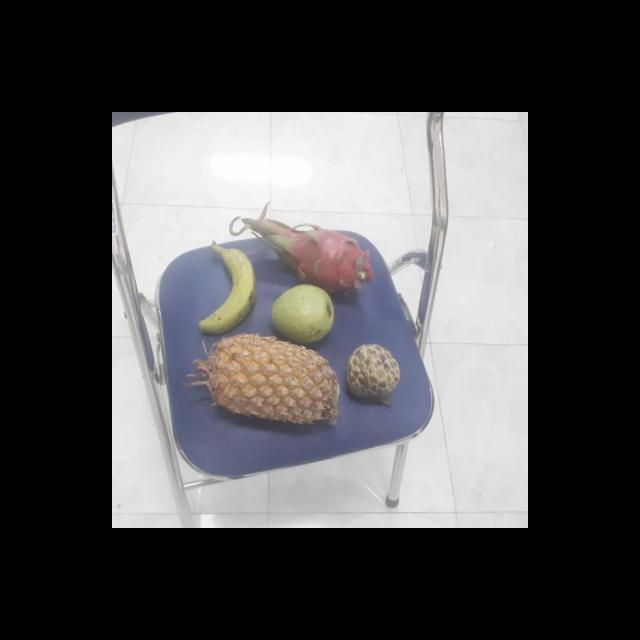Sakya fruit: (342, 346, 399, 402)
banana: (194, 244, 256, 334)
guava: (266, 284, 336, 346)
pineapple: (198, 336, 337, 429)
pitaya: (258, 226, 370, 294)
